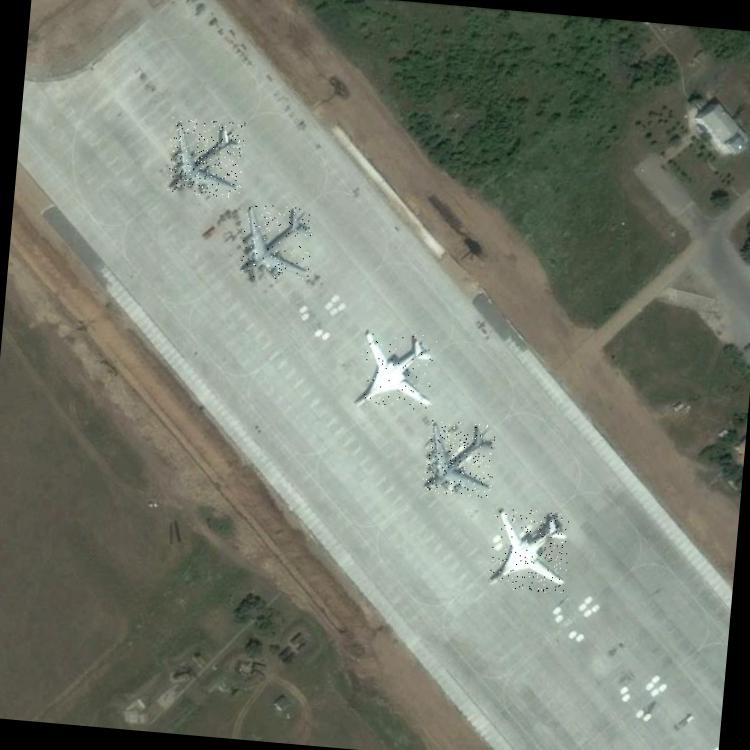A17: (166, 116, 246, 198), (240, 202, 314, 282), (422, 420, 497, 498)
A6: (489, 507, 572, 594), (356, 329, 438, 411)
